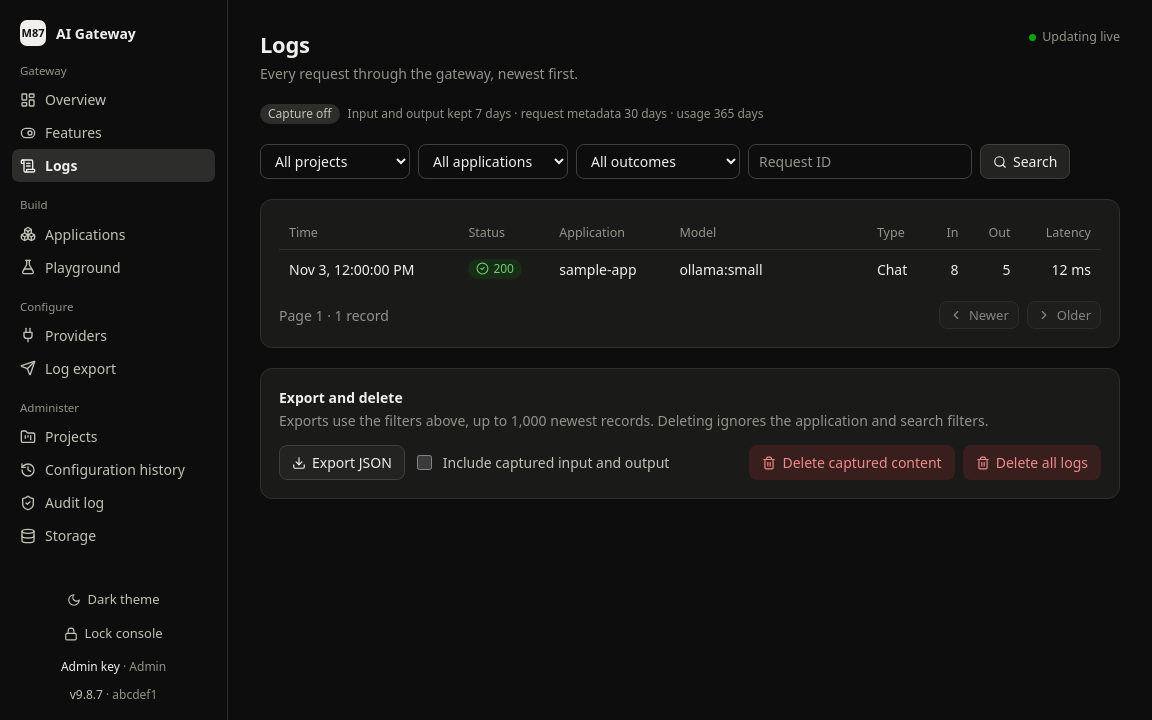
Test: logs › names exactly what a delete will remove, and needs confirmation
The width and height of the screenshot is (1152, 720).
Select "sample-app" in the dropdown named "Application" at coordinates (493, 162), box x1=418 y1=144 x2=568 y2=179
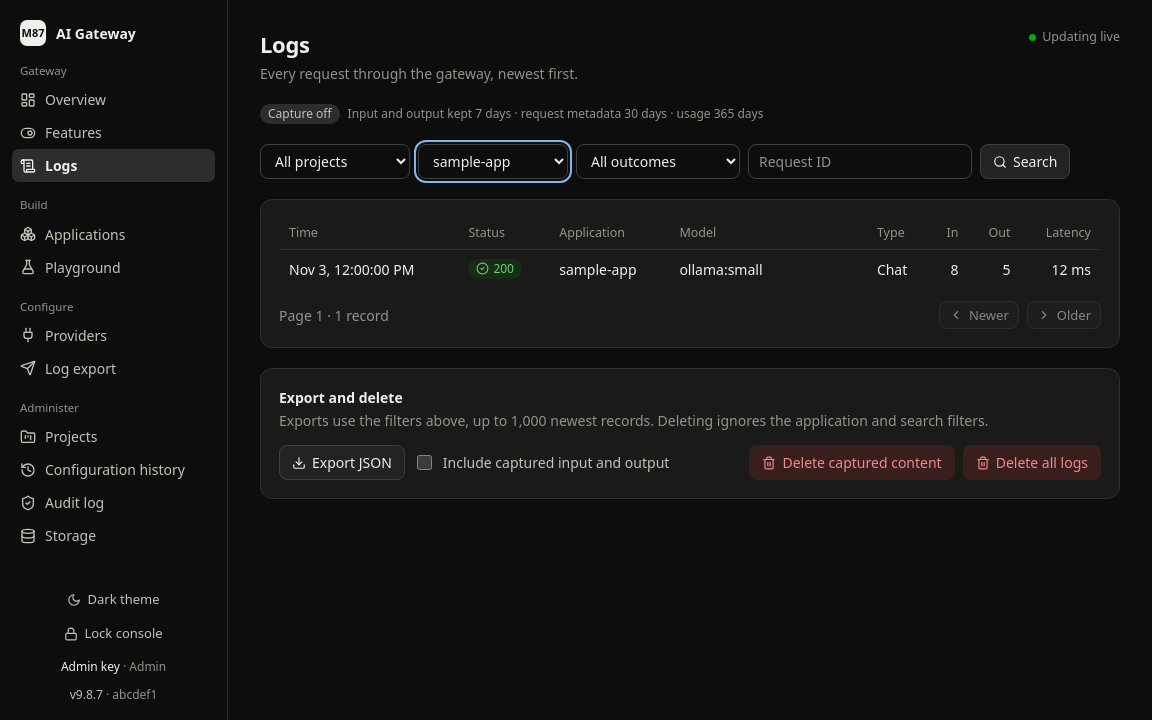
Click the button "Delete all logs" at coordinates (1032, 463), box x1=963 y1=445 x2=1101 y2=480
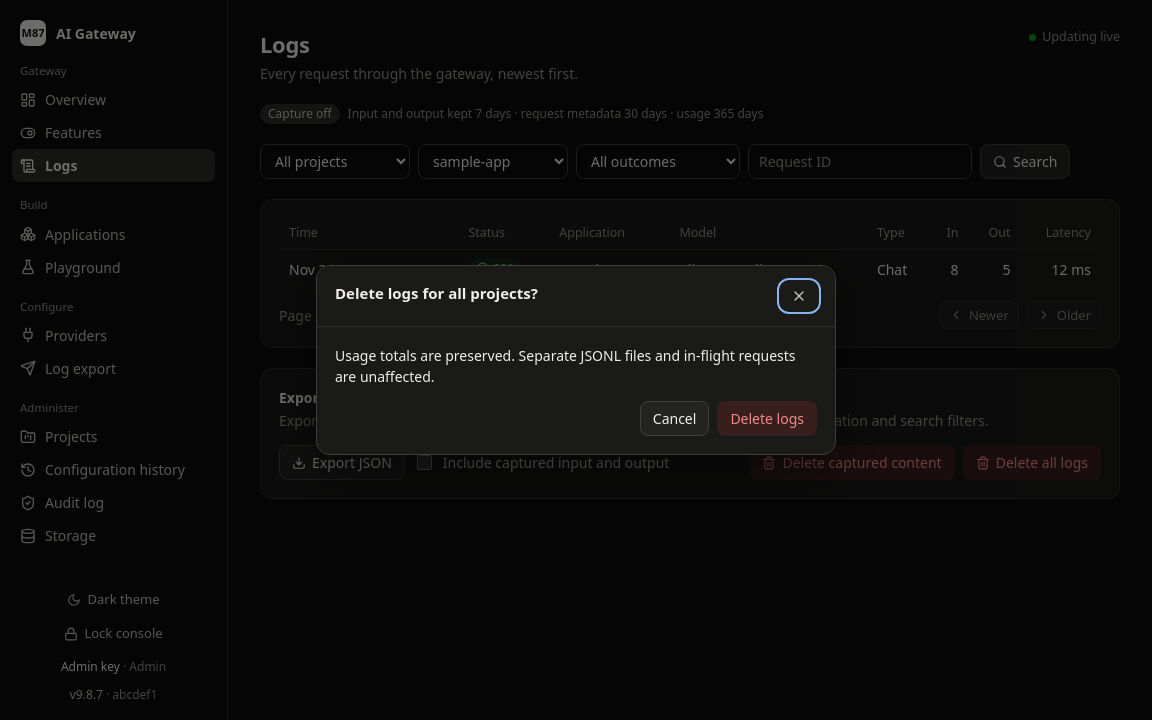
Click the button "Cancel" at coordinates (675, 418), box x1=640 y1=401 x2=709 y2=436
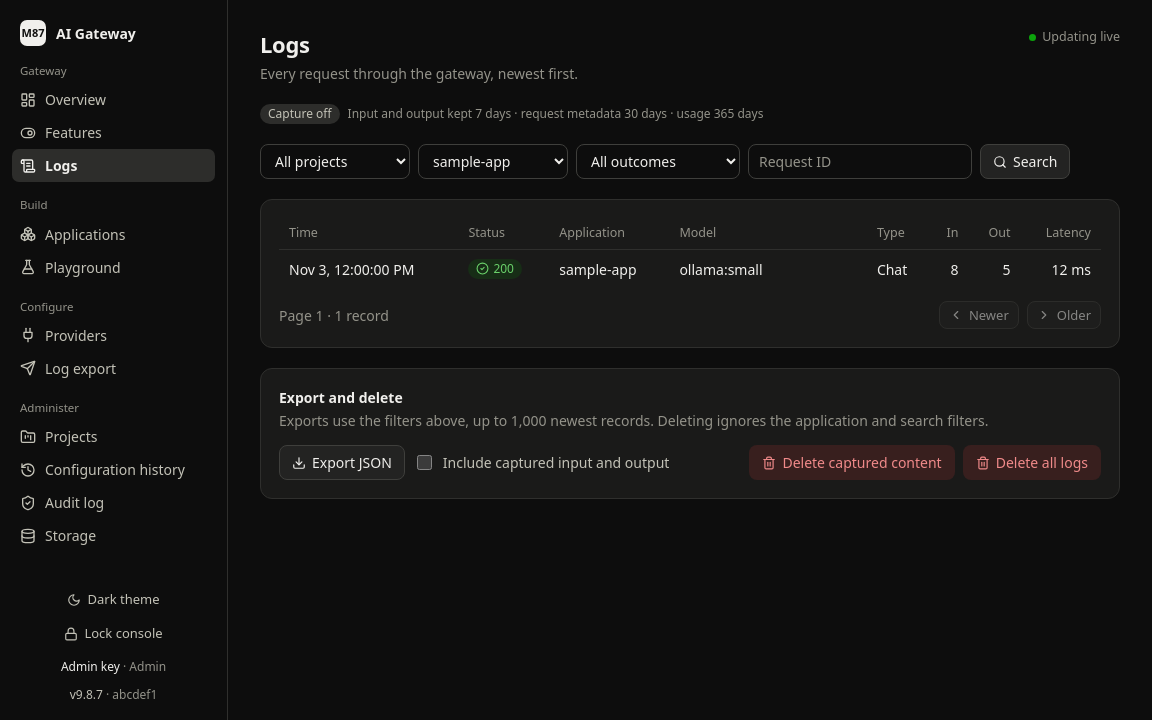
Select "Alpha" in the dropdown named "Project" at coordinates (335, 162), box x1=260 y1=144 x2=410 y2=179
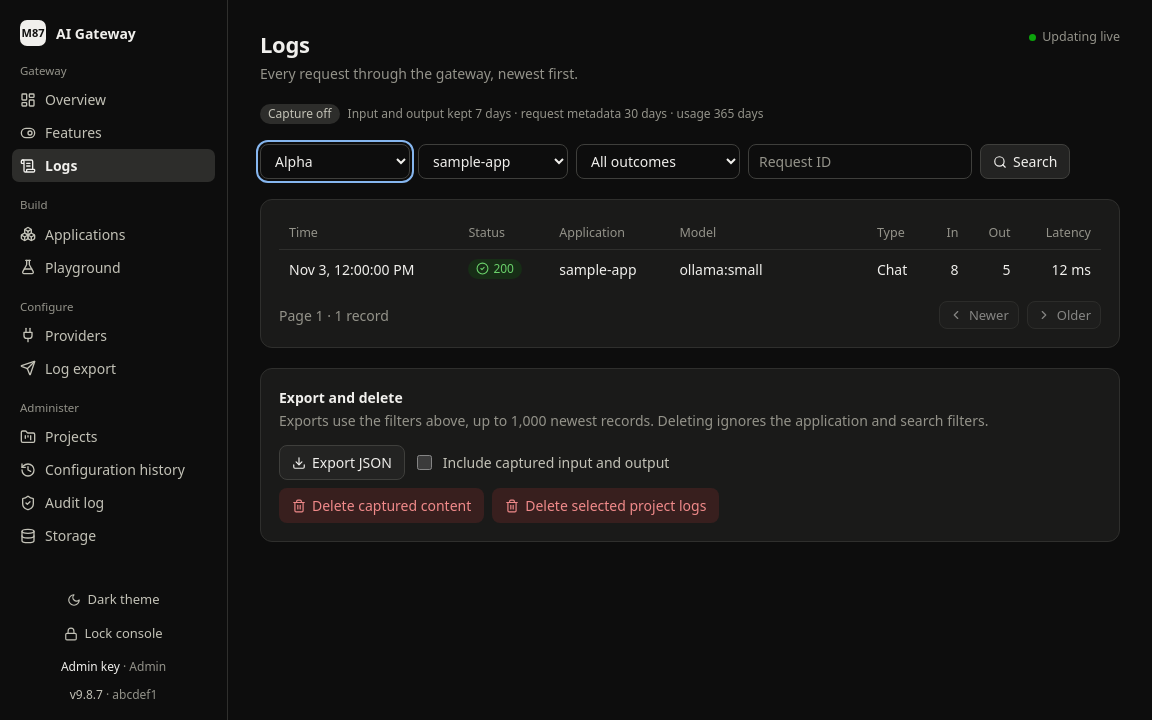
Click the button "Delete selected project logs" at coordinates (606, 506), box x1=492 y1=488 x2=720 y2=523
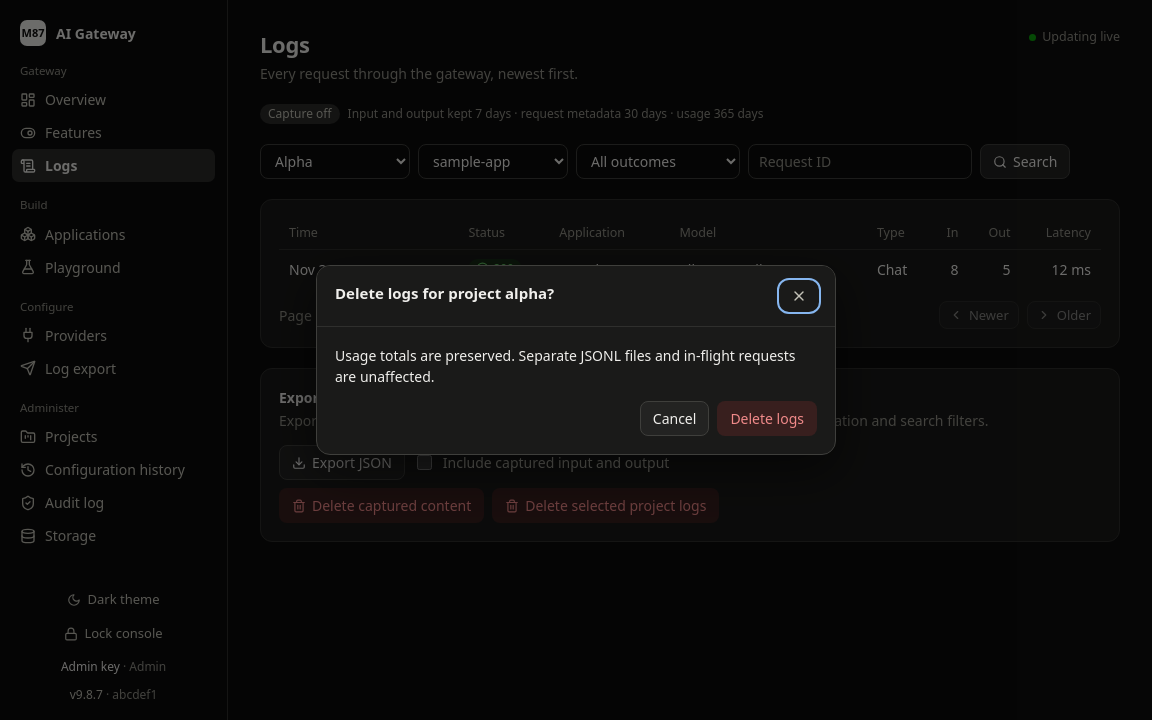
Check: the heading "Delete logs for project alpha?" is shown, box x1=335 y1=282 x2=554 y2=304
Click the button "Delete logs" at coordinates (767, 418), box x1=717 y1=401 x2=817 y2=436
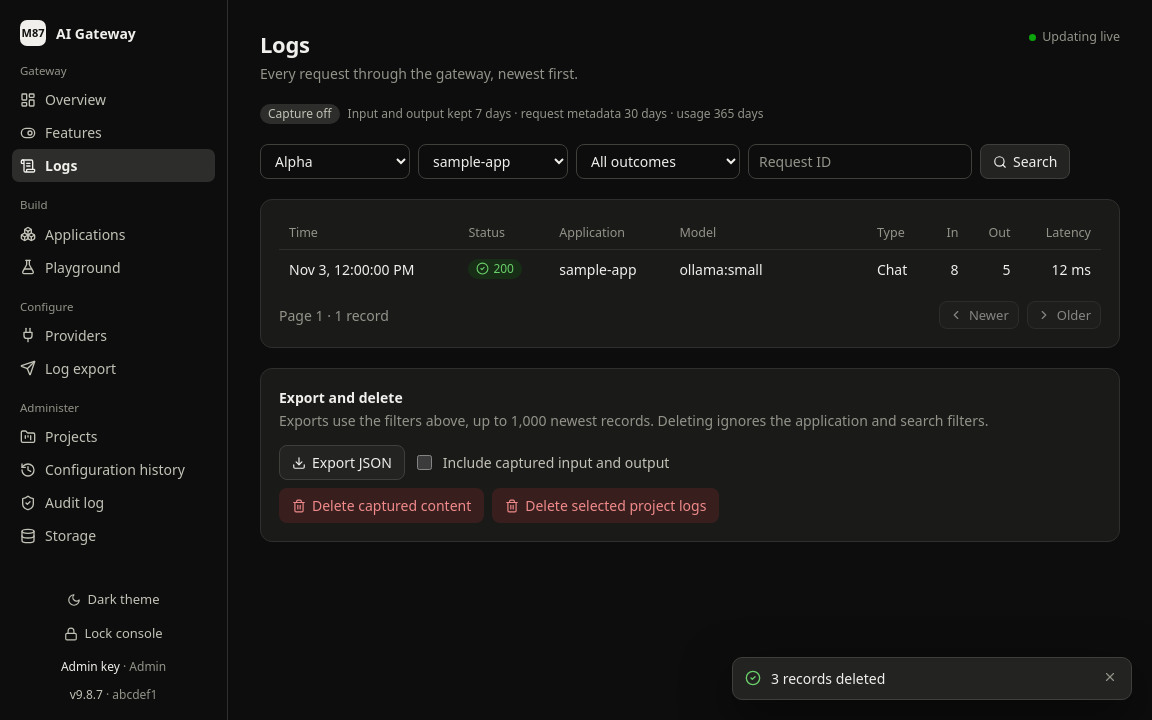
Check: the text "3 records deleted" is shown, box x1=771 y1=669 x2=885 y2=688
